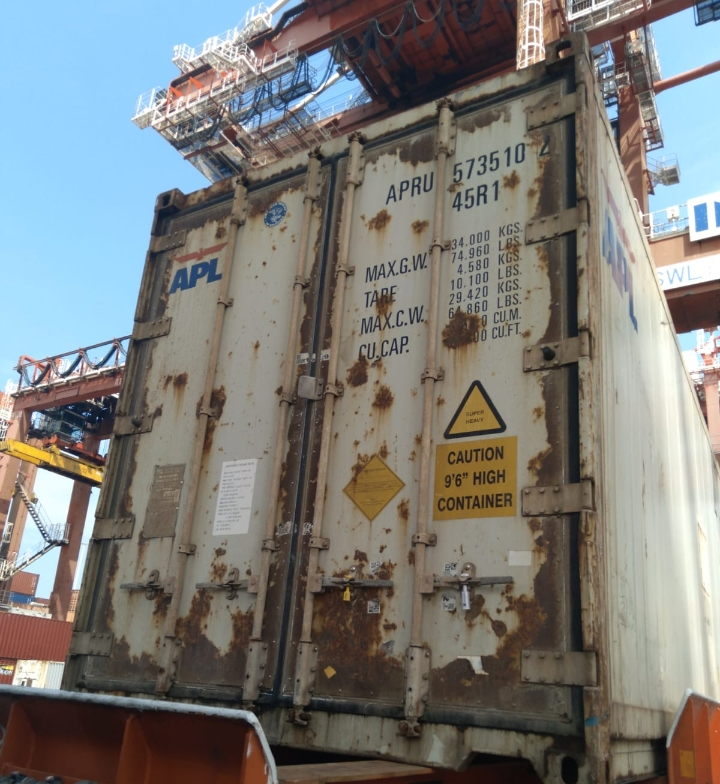rust: (454, 450, 580, 720), (106, 545, 271, 689), (298, 550, 434, 706), (518, 119, 572, 485), (370, 111, 500, 180)
